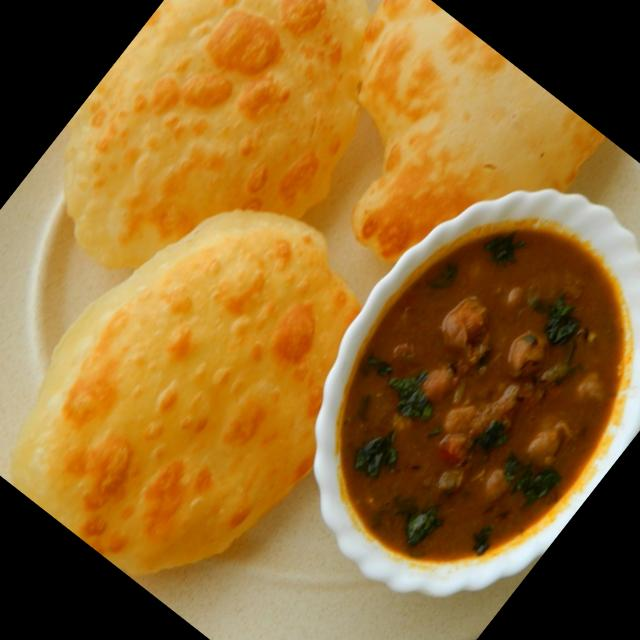Bhatura: (0, 120, 449, 621), (11, 0, 445, 348), (253, 0, 608, 325)
